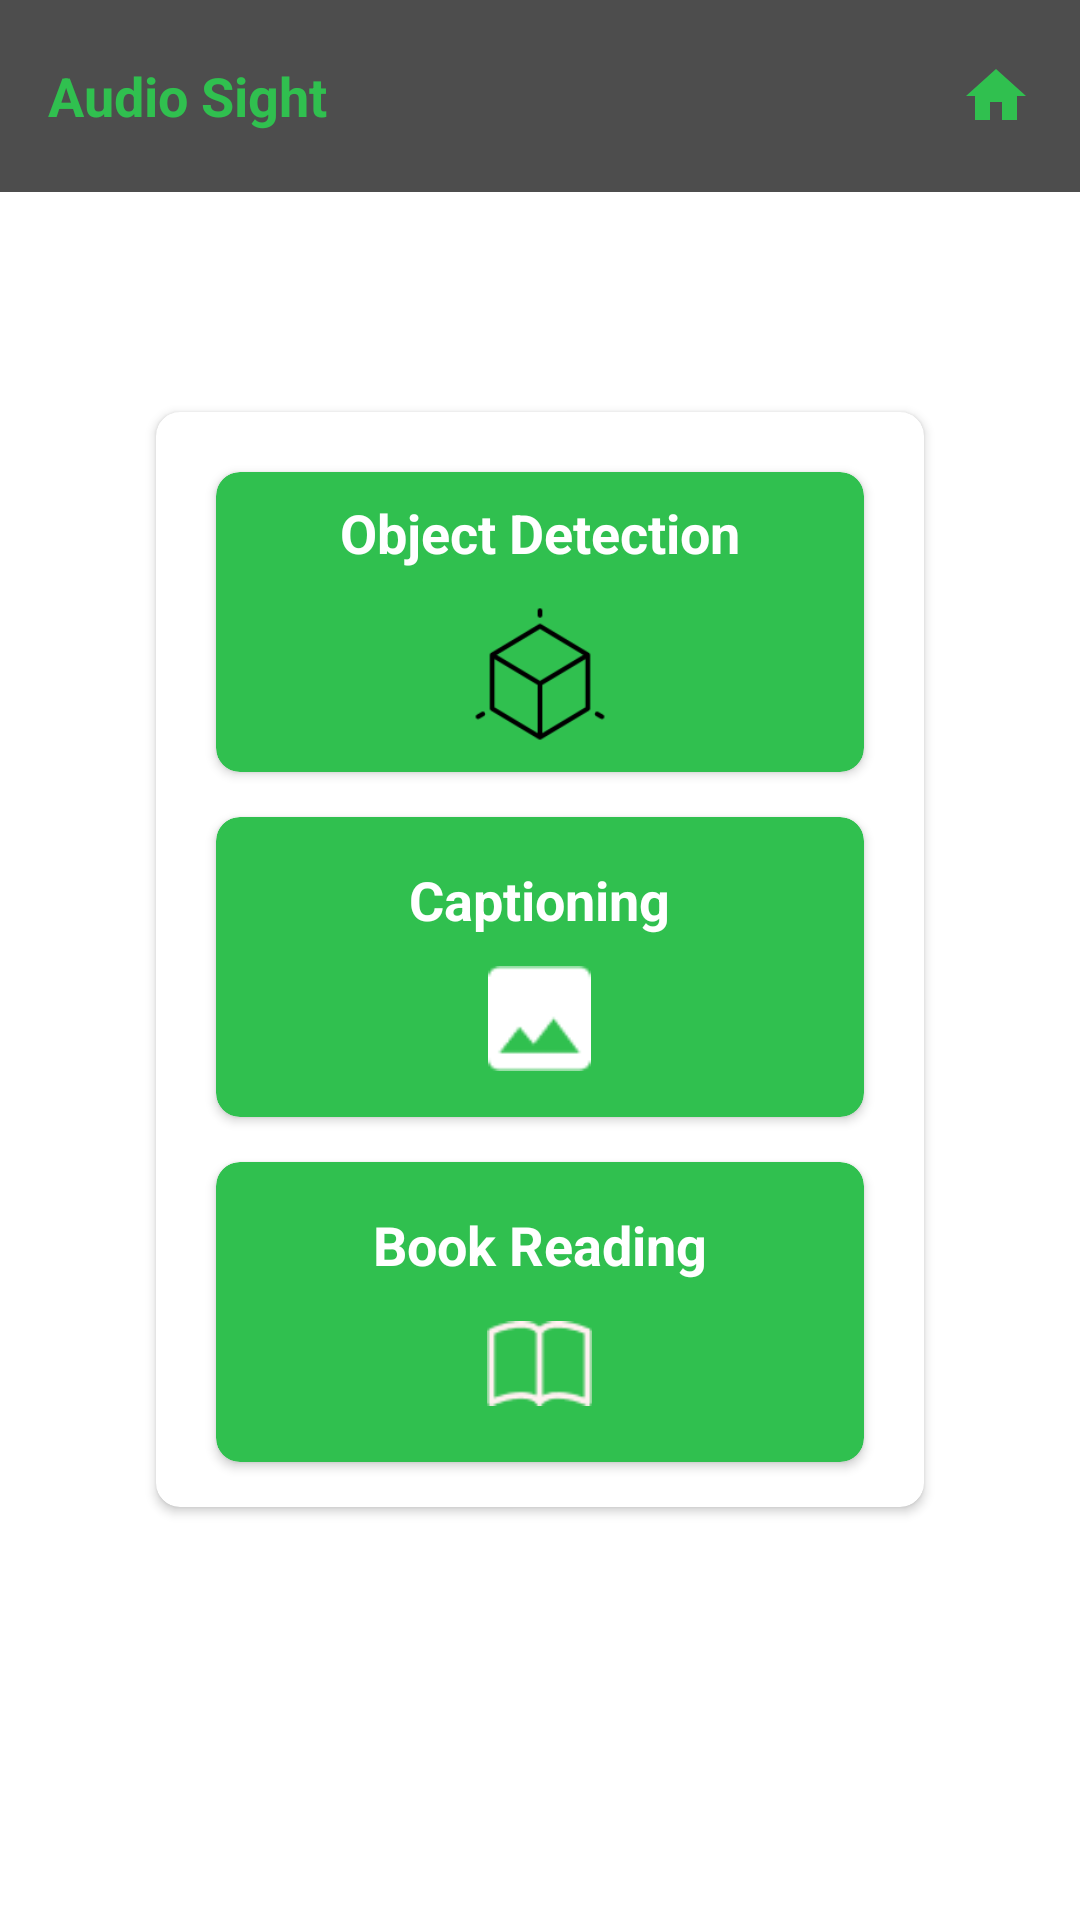

Screen size 1080px x 1920px. Icon name, then its box in pixels as (x1, y1, x2, y2):
books: (487, 1321, 592, 1406)
home: (966, 69, 1026, 120)
